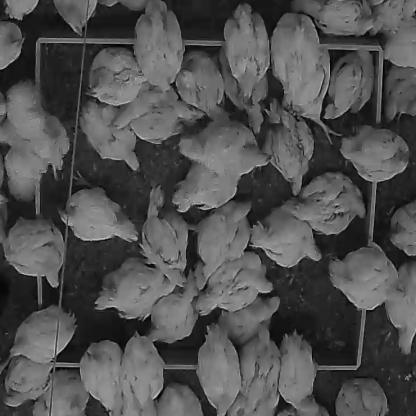chicken: (58, 171, 136, 244), (179, 122, 273, 178), (330, 241, 405, 311), (93, 259, 176, 322), (283, 173, 366, 236), (193, 202, 252, 290), (194, 253, 272, 317), (264, 100, 314, 199), (270, 12, 320, 107), (134, 2, 185, 93), (224, 3, 271, 100), (142, 186, 186, 288), (2, 217, 63, 289), (142, 272, 198, 350), (78, 100, 138, 171), (250, 209, 321, 268), (196, 325, 242, 415), (295, 50, 339, 144), (220, 51, 268, 135), (8, 305, 76, 364), (340, 126, 409, 184), (175, 52, 230, 124), (85, 47, 145, 107), (324, 51, 376, 120), (172, 163, 241, 214), (79, 340, 125, 415), (214, 296, 280, 347), (277, 330, 318, 411), (128, 100, 203, 144), (121, 332, 163, 407), (107, 88, 178, 132), (238, 327, 280, 401), (384, 260, 416, 355), (292, 1, 372, 38), (21, 114, 71, 172), (3, 356, 53, 409), (33, 369, 89, 416), (6, 80, 44, 140), (4, 145, 42, 204), (334, 378, 388, 415), (227, 381, 282, 415), (368, 2, 416, 40), (384, 68, 416, 124), (51, 1, 97, 37), (156, 383, 205, 415), (384, 21, 416, 69), (389, 200, 415, 258), (0, 22, 25, 71), (281, 398, 330, 415), (4, 1, 39, 22), (120, 399, 155, 415), (99, 0, 148, 10), (0, 93, 9, 127), (0, 194, 6, 245), (0, 154, 5, 192)
